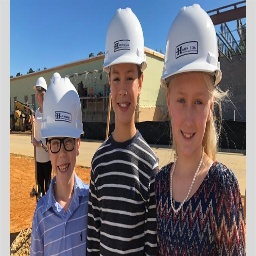helmet: (160, 5, 230, 93), (36, 73, 86, 142), (100, 7, 151, 74)
no-vest: (155, 151, 243, 256), (88, 133, 157, 256), (32, 173, 88, 256)
person: (155, 7, 242, 256), (88, 6, 161, 256), (31, 73, 86, 250)
